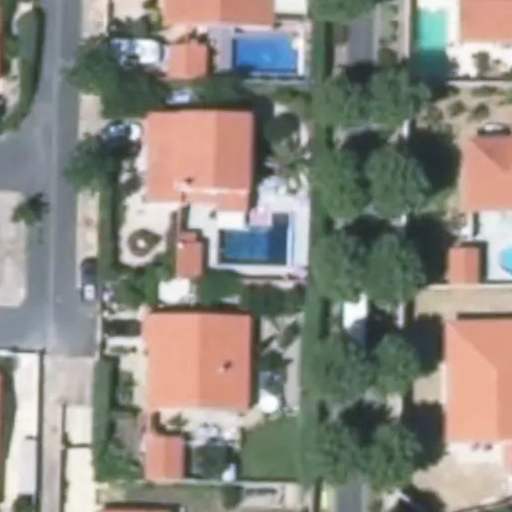pool: (216, 212, 291, 267), (229, 32, 302, 78), (409, 9, 448, 75)
